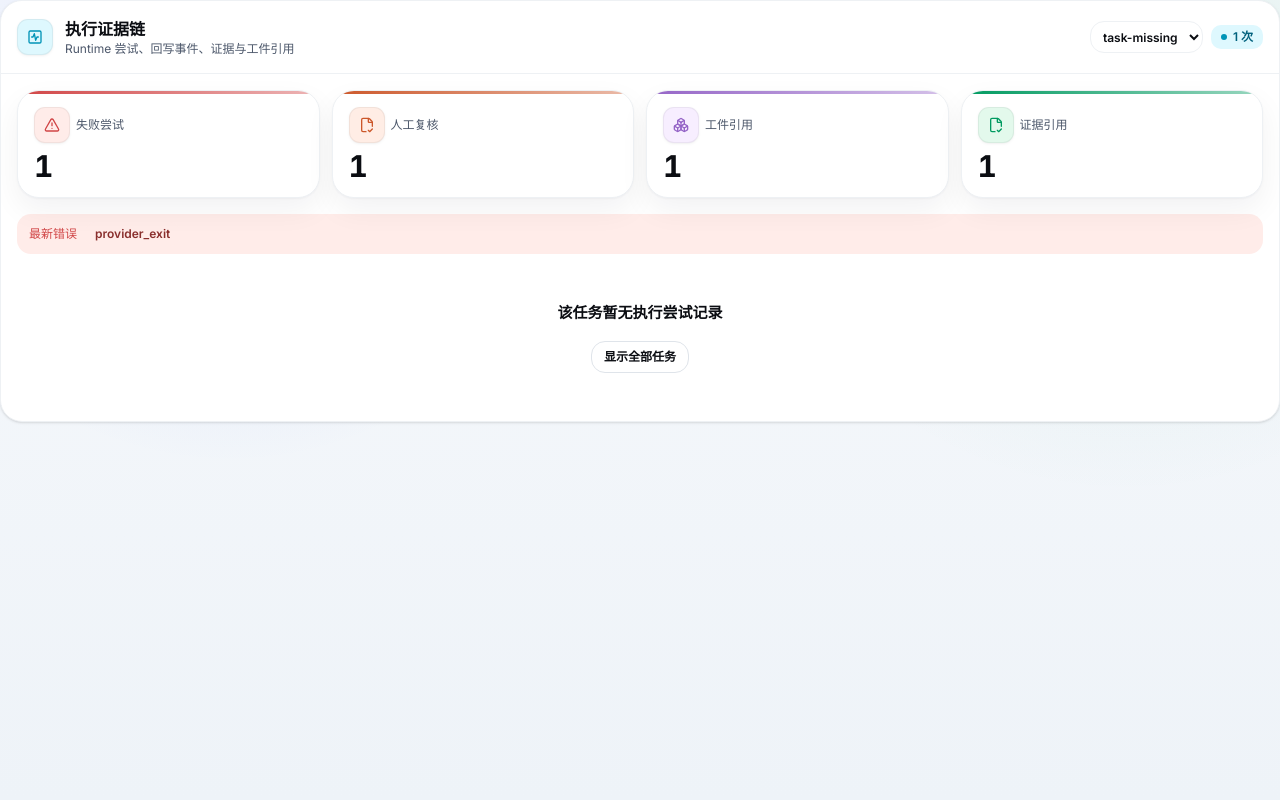
it: ProjectExecutionTracePanel › preselects the deep-linked task and resets when it has no attempts
Check: the message "该任务暂无执行尝试记录 显示全部任务" is shown, box [558,303,722,372]
Check: the text "该任务暂无执行尝试记录" is shown, box [558,302,722,324]
Click the button "显示全部任务" at (640, 356), box [591,340,689,372]
(page scrolled)
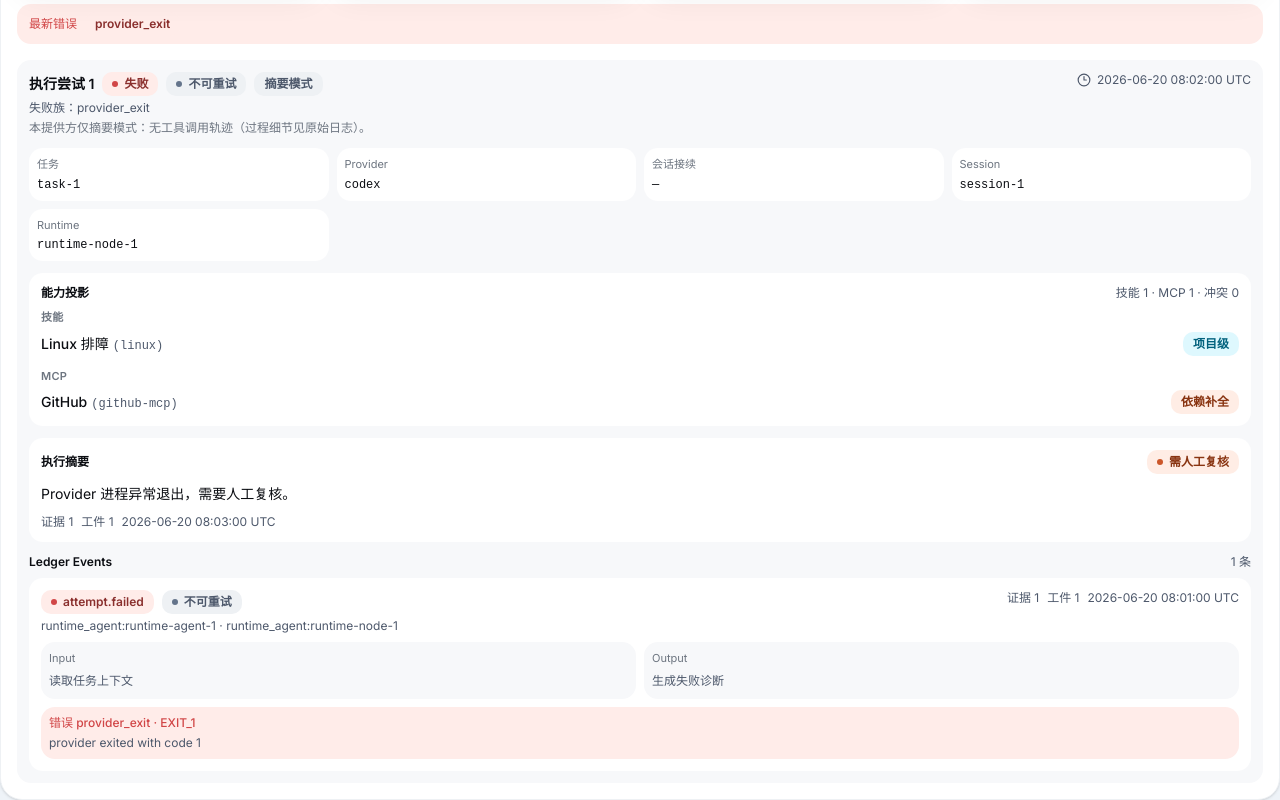
Check: the element labelled "执行尝试 1" is shown
